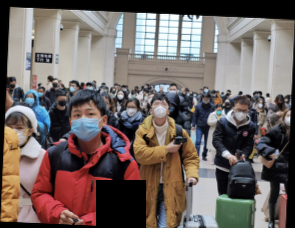with_mask: (70, 105, 103, 141), (5, 120, 30, 147), (151, 99, 170, 118), (233, 105, 248, 120), (24, 92, 37, 106), (125, 102, 138, 116), (56, 96, 68, 106), (283, 110, 291, 125), (69, 82, 78, 91), (37, 87, 45, 97), (275, 98, 285, 106), (147, 93, 154, 104), (116, 91, 125, 99), (256, 99, 264, 108), (214, 106, 222, 114), (169, 86, 178, 93), (51, 80, 59, 87), (202, 96, 210, 103), (85, 83, 94, 89), (224, 98, 231, 105), (9, 81, 17, 87), (111, 87, 117, 93), (130, 91, 136, 97), (203, 86, 209, 92), (211, 91, 217, 96)
without_mask: (159, 86, 164, 91)
